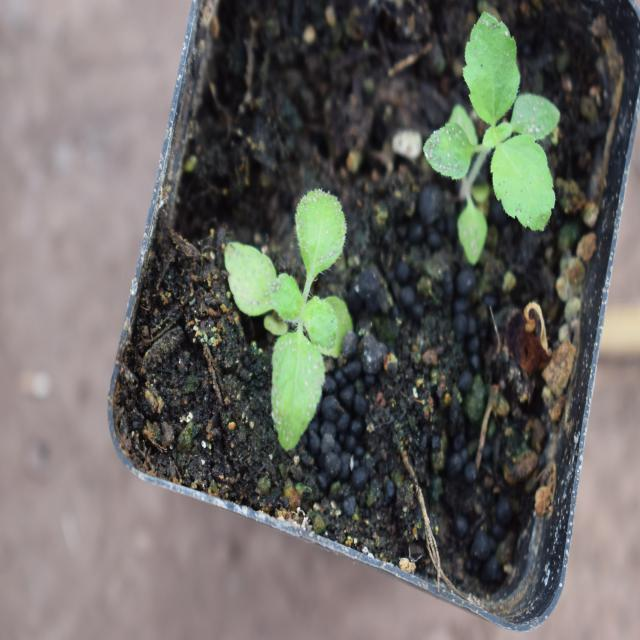billygoat_weed: (205, 155, 367, 451), (439, 21, 568, 272)
